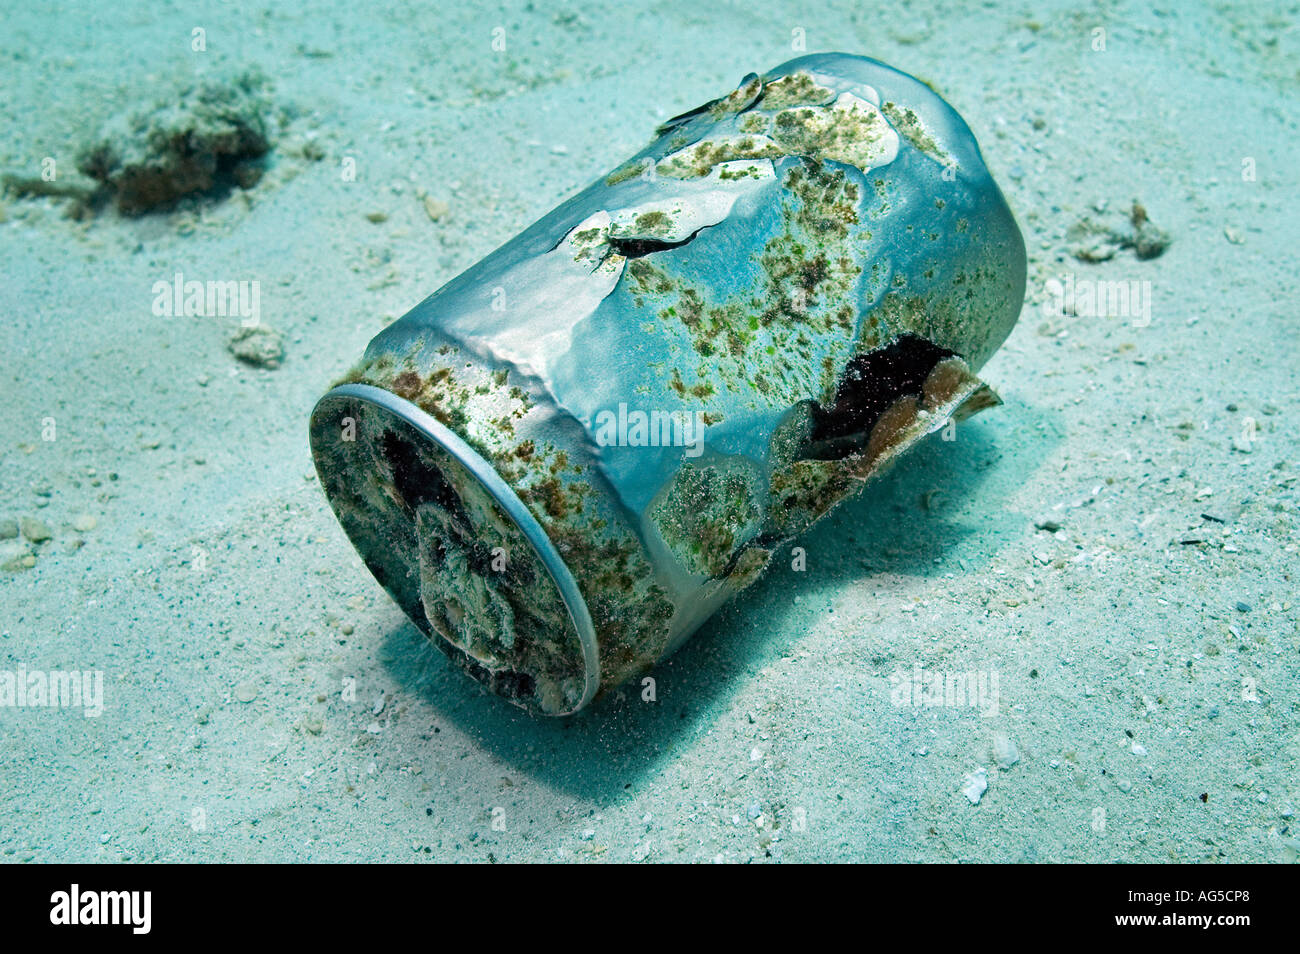Metal: (313, 49, 1026, 730)
